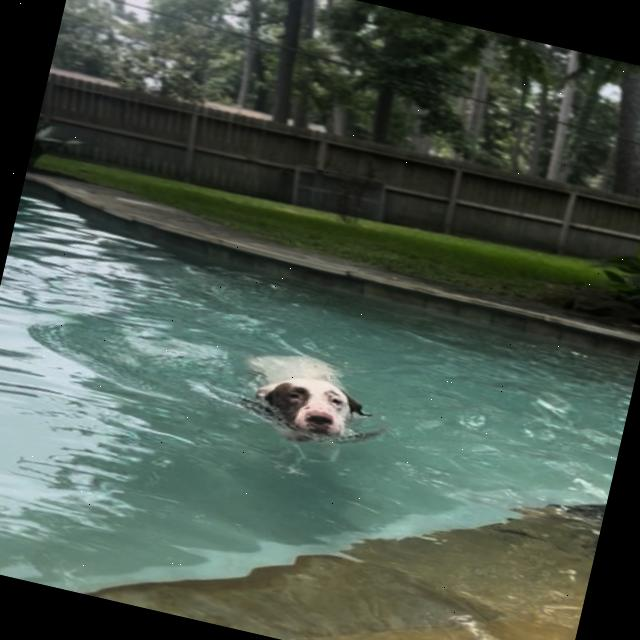labrador_retriever_dog: (219, 334, 387, 488)
